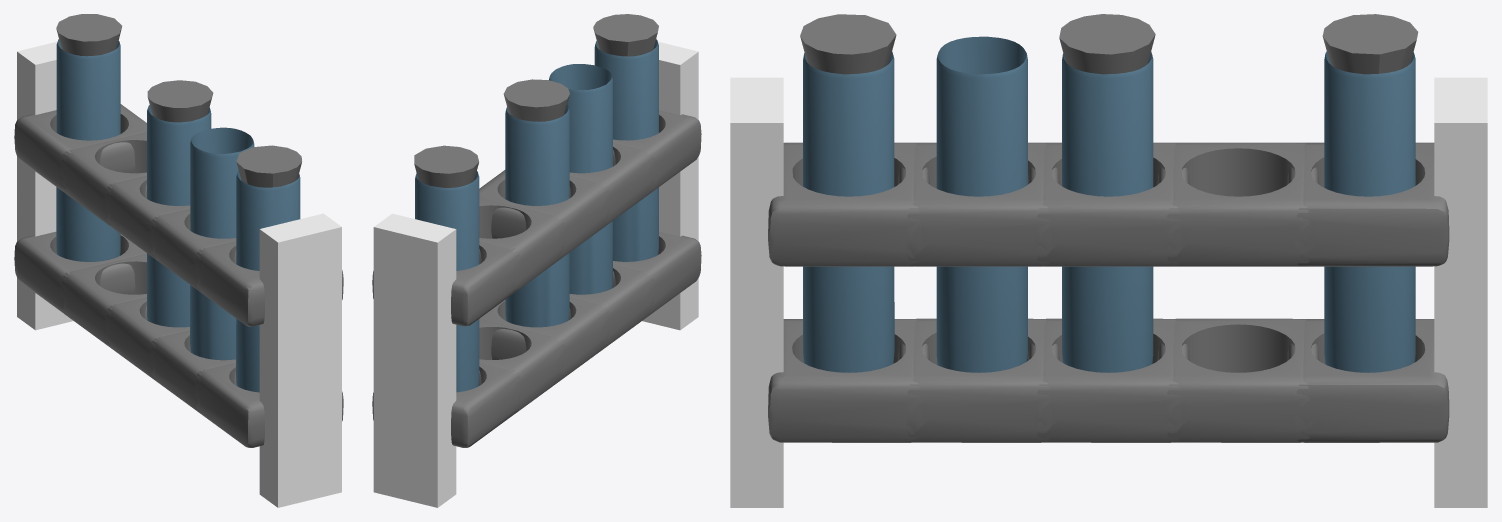
File: testtuberack.fbx
3 renders of one model, left to right at view 1: azimuth 30°, elevation 25°; view 2: azimuth 150°, elevation 25°; view 3: azimuth 270°, elevation 25°, orthographic. The views are drawn at different scales.
Visible parts, largest first — view 1: TestTubeRack; view 2: TestTubeRack; view 3: TestTubeRack.
Part boxes in pixels (box(x1,y1,x2,y2)): TestTubeRack: box(14, 14, 343, 507); TestTubeRack: box(372, 14, 701, 507); TestTubeRack: box(730, 14, 1487, 507).
Size of the model in its own units: 19.86 by 60.74 by 92.46.
